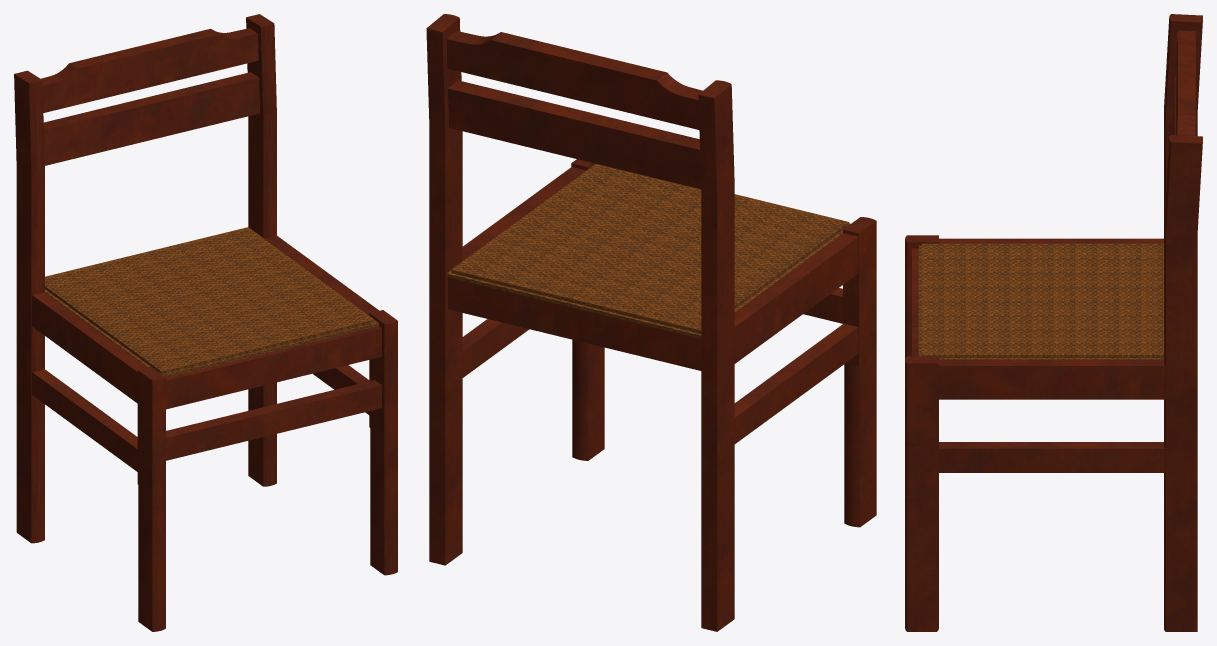
The model's file is chair.dae.
3 views of the same model, side by side, from view 1: azimuth 30°, elevation 25°; view 2: azimuth 150°, elevation 25°; view 3: azimuth 270°, elevation 25° (orthographic). The views are drawn at different scales.
Visible parts, largest first — view 1: стол1, chair; view 2: стол1, chair; view 3: стол1, chair.
Part boxes in pixels (bbox=[...]): стол1: bbox=[14, 14, 397, 631]; chair: bbox=[41, 28, 378, 377]; стол1: bbox=[426, 14, 876, 631]; chair: bbox=[446, 31, 850, 338]; стол1: bbox=[905, 14, 1202, 631]; chair: bbox=[918, 30, 1195, 359].
Bounding box in the file's own units: 45 × 44.19 × 80.24.
Materials: 3 (3 with a texture image).
